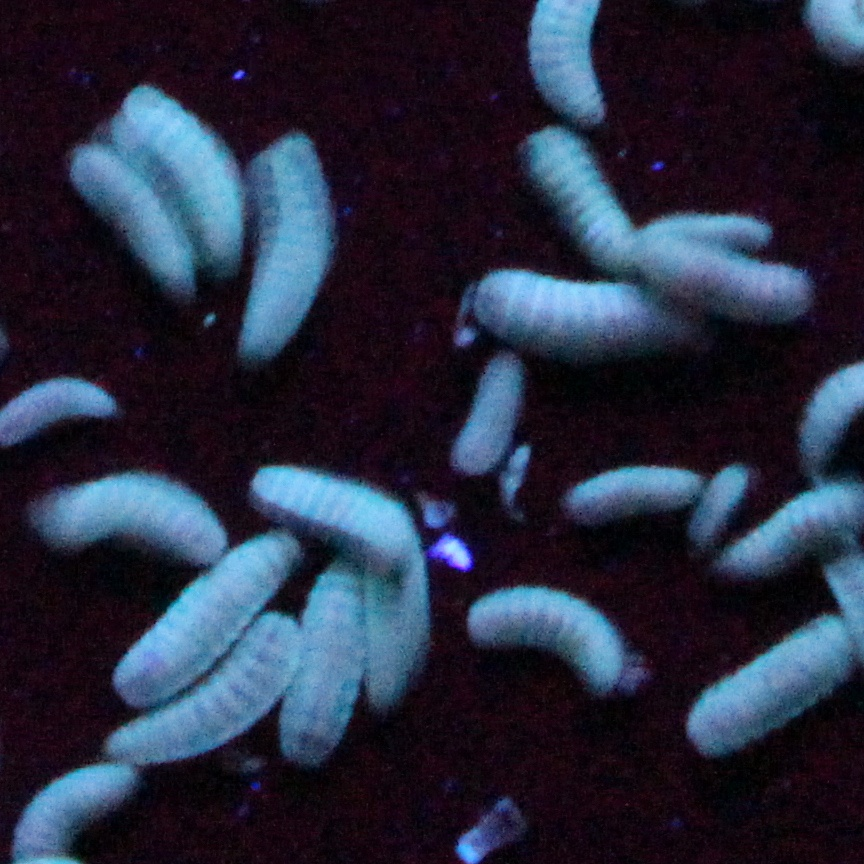larve: (117, 536, 295, 699), (115, 82, 248, 269), (113, 619, 282, 761), (42, 449, 222, 569), (255, 454, 415, 581), (68, 142, 188, 309), (284, 556, 366, 772), (468, 576, 622, 689), (695, 622, 842, 736), (255, 136, 328, 362), (648, 229, 822, 322), (528, 122, 628, 276), (482, 276, 688, 349), (568, 462, 702, 529), (442, 369, 522, 462)
